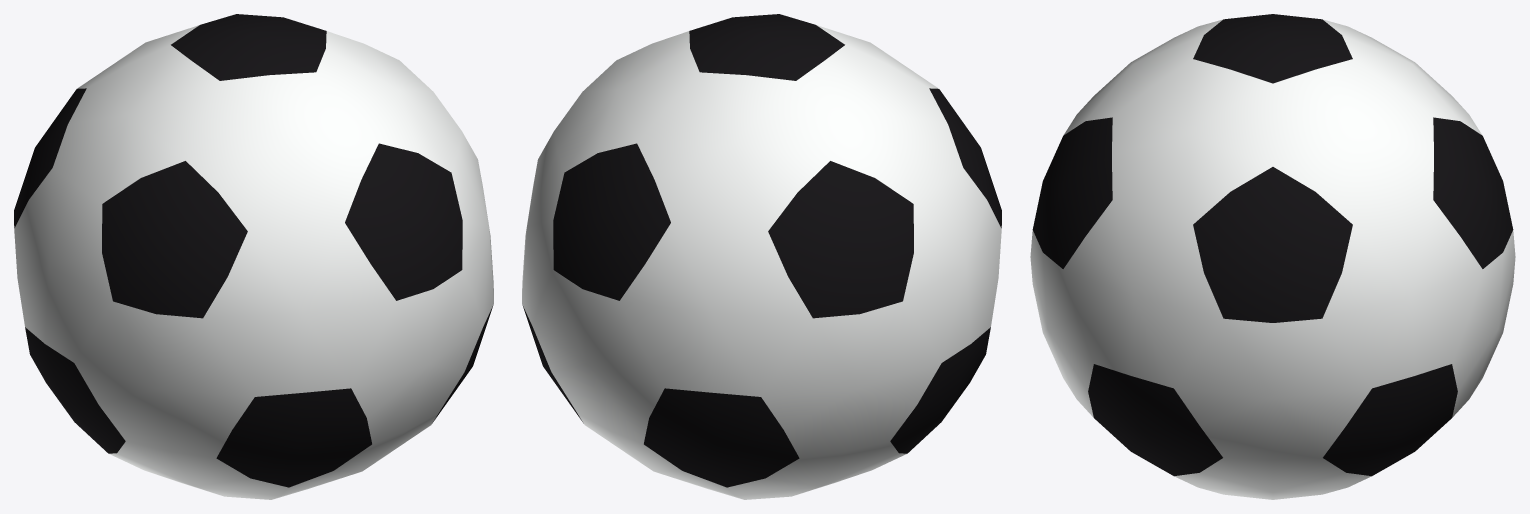
The picture shows the model from 3 angles, left to right: view 1: azimuth 30°, elevation 25°; view 2: azimuth 150°, elevation 25°; view 3: azimuth 270°, elevation 25°; orthographic projection.
Parts seen in each view (by area): view 1: Soccerball; view 2: Soccerball; view 3: Soccerball.
Boxes of the visible parts, x1,y1,x2,y2 form: Soccerball: [14, 14, 493, 499]; Soccerball: [522, 14, 1001, 499]; Soccerball: [1030, 14, 1515, 499].
Size of what is drawn, in the model's own units: 0.194 by 0.1978 by 0.1944.
Materials: 1 (1 with a texture image).
